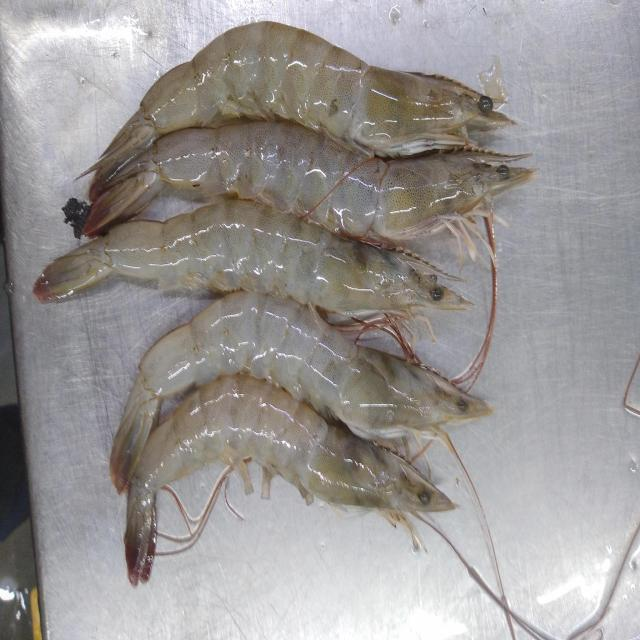shrimp: (109, 291, 494, 492), (85, 20, 513, 192), (124, 374, 456, 586), (84, 120, 535, 243), (33, 199, 472, 316)
